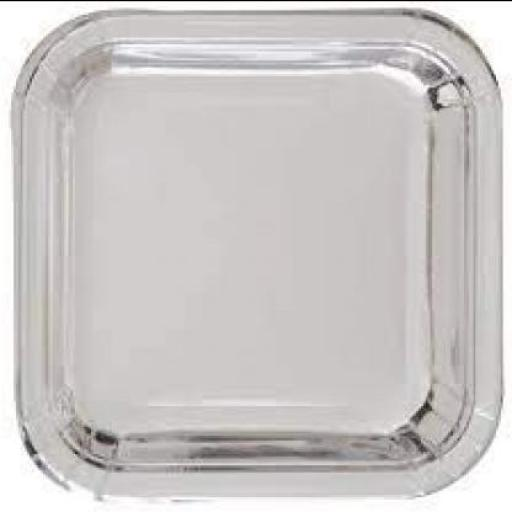metal: (18, 4, 508, 494)
